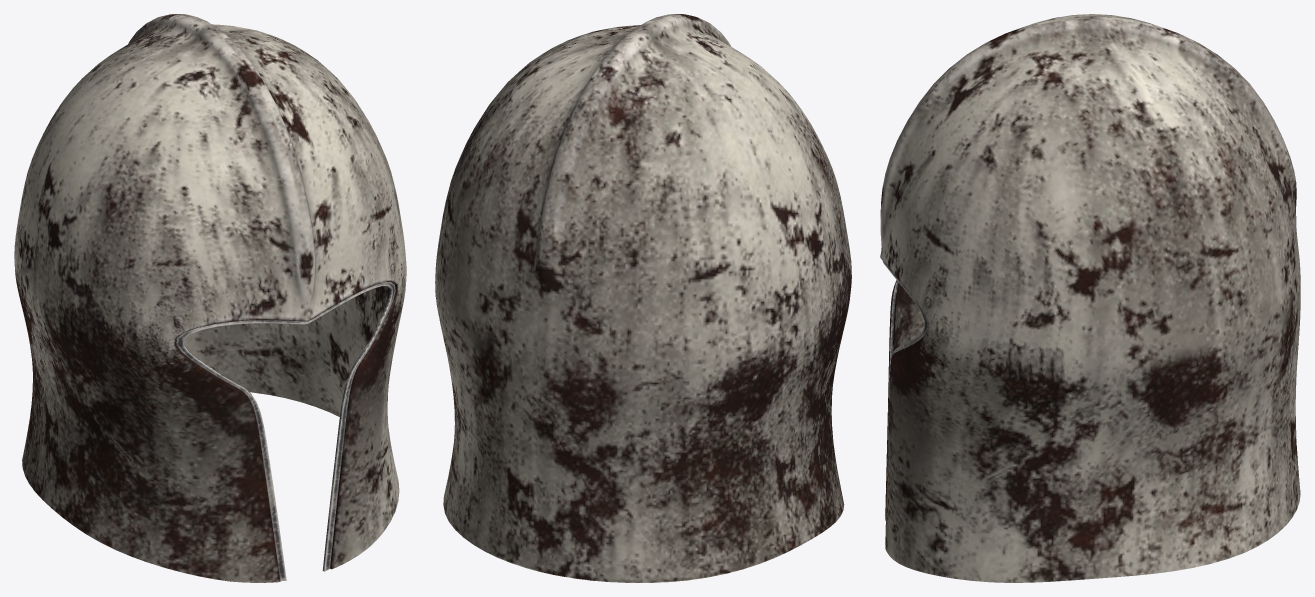
3 views of the same model, side by side, from view 1: azimuth 30°, elevation 25°; view 2: azimuth 150°, elevation 25°; view 3: azimuth 270°, elevation 25° (orthographic). The views are drawn at different scales.
Visible parts, largest first — view 1: Helemt, Helmet; view 2: Helemt; view 3: Helemt, Helmet.
Boxes of the visible parts, bbox=[...] form: Helemt: bbox=[14, 14, 406, 582]; Helmet: bbox=[176, 282, 395, 581]; Helemt: bbox=[435, 14, 851, 582]; Helemt: bbox=[880, 14, 1300, 582]; Helmet: bbox=[882, 261, 927, 488].
Bounding box in the file's own units: 1.46 × 2 × 1.47.
2 materials, 2 textured.
